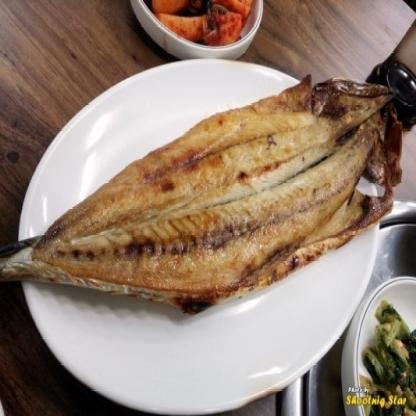Peixe: (0, 72, 411, 347)
